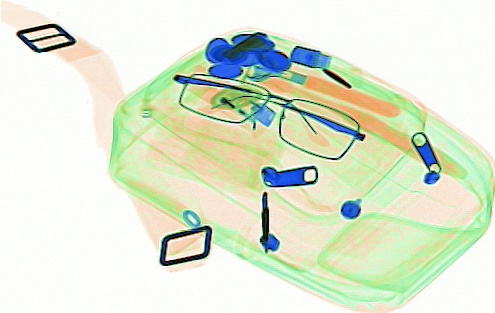lighter: (184, 75, 276, 141)
